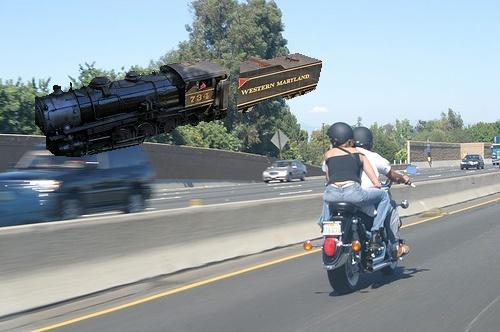tampered: (36, 54, 322, 157)
